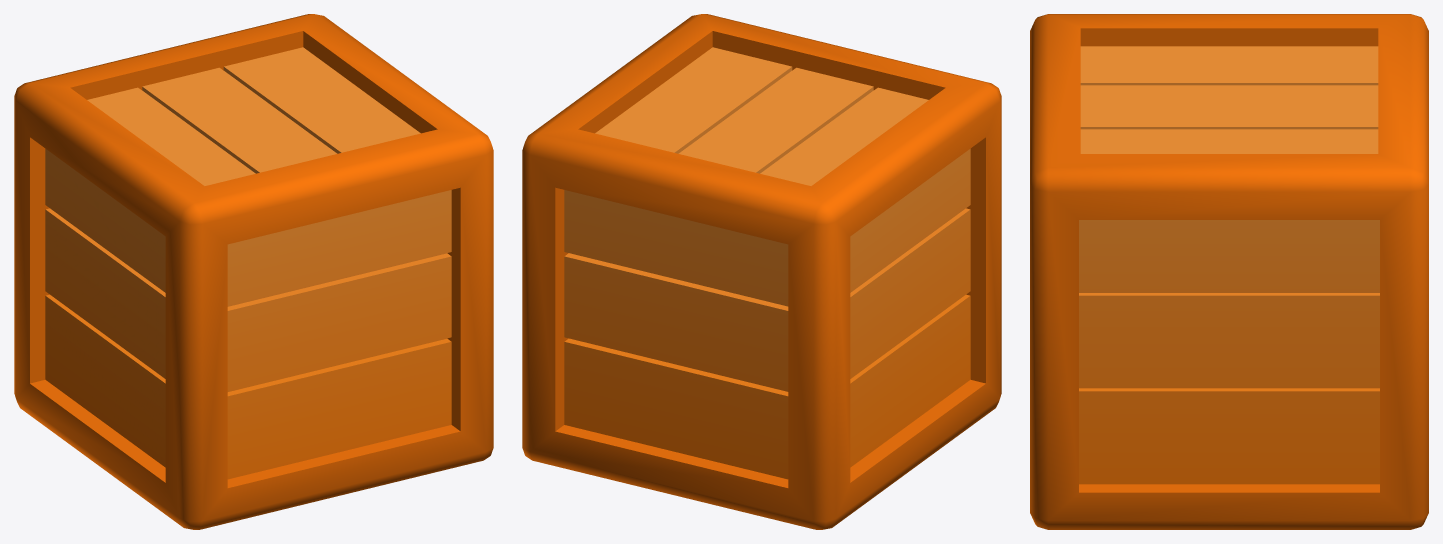
The model's file is Prop_Crate_01.fbx.
3 renders of one model, left to right at view 1: azimuth 30°, elevation 25°; view 2: azimuth 150°, elevation 25°; view 3: azimuth 270°, elevation 25°, orthographic. The views are drawn at different scales.
Parts seen in each view (by area): view 1: Prop_Crate_01; view 2: Prop_Crate_01; view 3: Prop_Crate_01.
Part boxes in pixels (bbox=[...]): Prop_Crate_01: bbox=[14, 14, 493, 529]; Prop_Crate_01: bbox=[522, 14, 1001, 529]; Prop_Crate_01: bbox=[1030, 14, 1428, 529].
Bounding box in the file's own units: 119 × 119 × 119.
